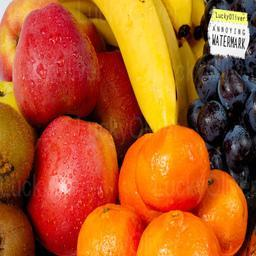apple: (27, 119, 121, 250), (8, 7, 104, 133), (1, 1, 58, 82)
